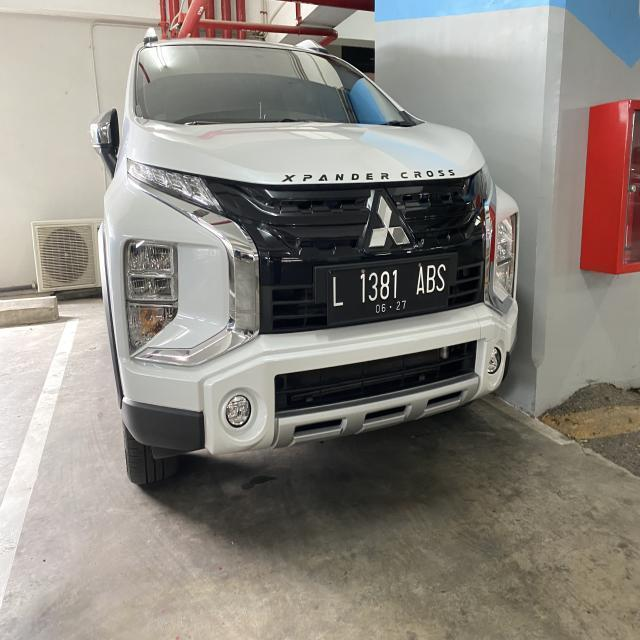1: (357, 274, 368, 304), (392, 268, 399, 298)
3: (368, 270, 379, 306)
8: (380, 270, 390, 302)
A: (416, 266, 425, 296)
B: (426, 264, 436, 294)
L: (330, 274, 345, 310)
S: (437, 265, 447, 293)
